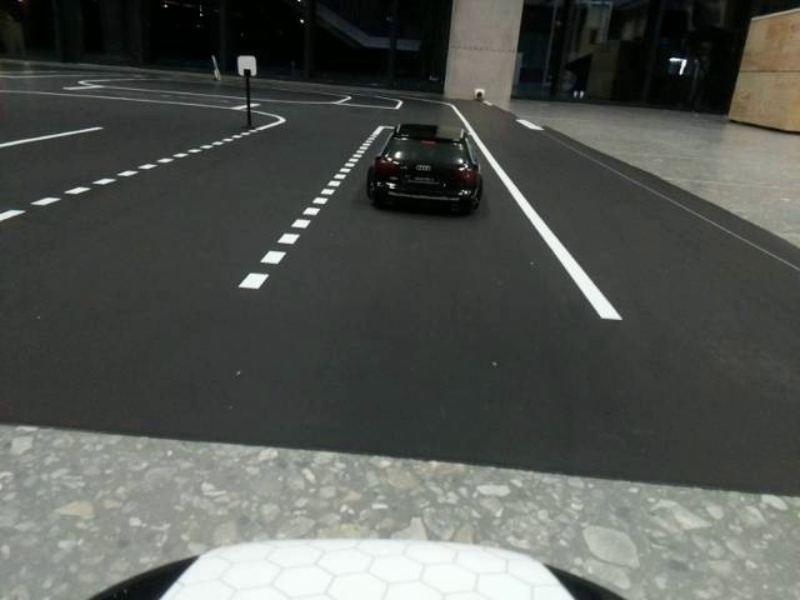car: (364, 120, 495, 228)
